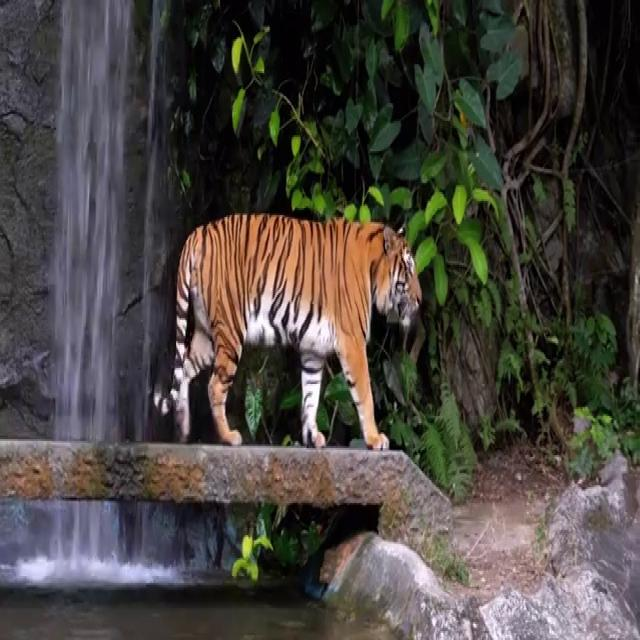tiger: (151, 212, 423, 449)
